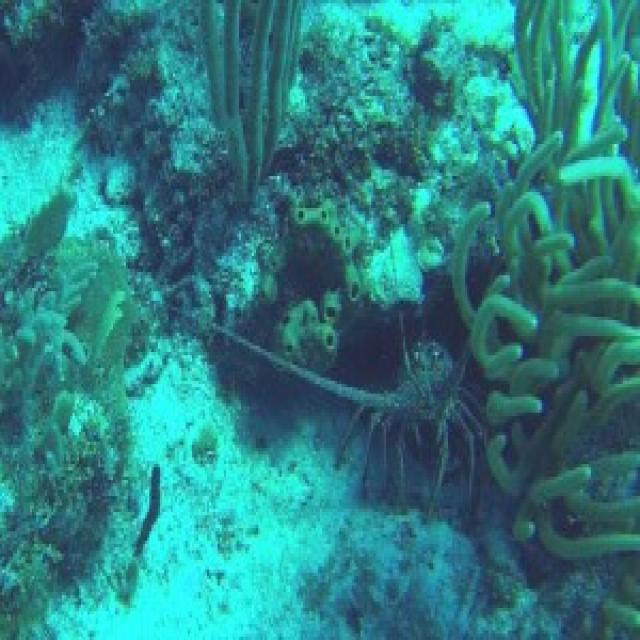lobsters: (344, 309, 545, 540)
